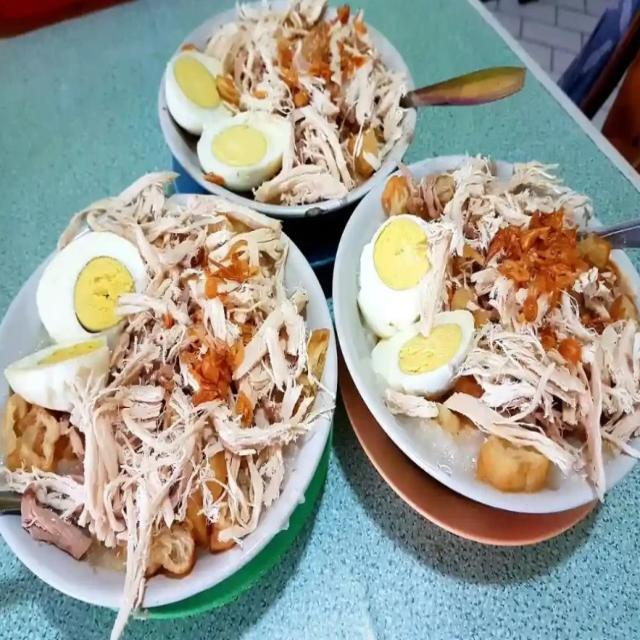bubur ayam: (22, 210, 314, 582), (372, 170, 630, 500), (166, 0, 407, 202)
mangkuk: (0, 178, 339, 624), (330, 157, 635, 518), (156, 3, 416, 220)
telur rebus: (37, 232, 146, 346), (356, 214, 440, 336), (371, 310, 475, 398), (5, 337, 114, 413), (196, 110, 289, 192)
